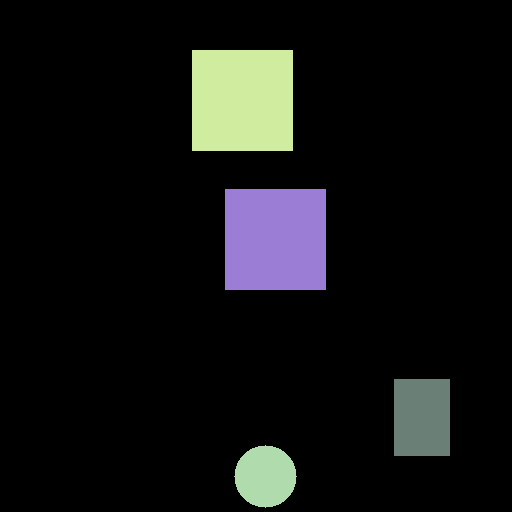circle: (234, 445, 296, 507)
rectangle: (394, 379, 449, 455)
square: (225, 189, 325, 289), (192, 50, 292, 150)
